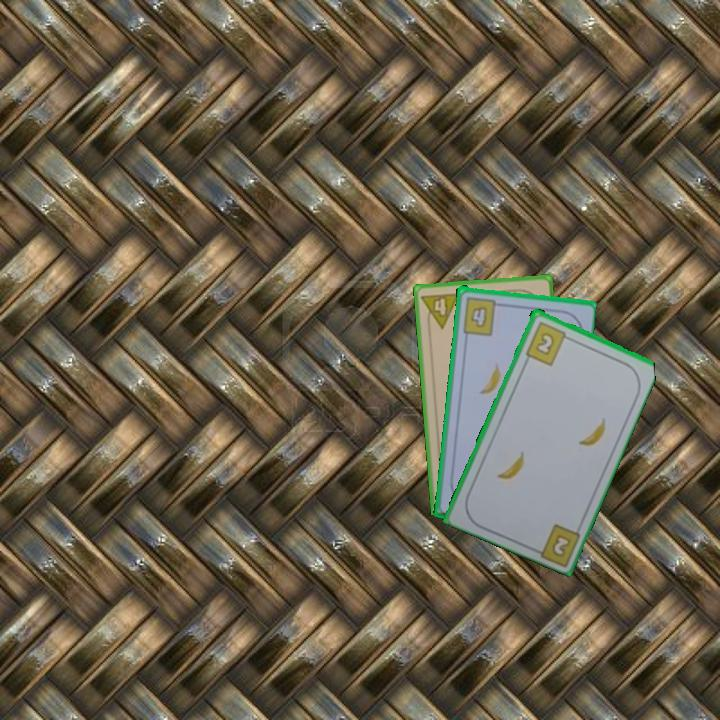2b: (522, 318, 574, 368), (550, 533, 571, 557)
4b: (459, 293, 505, 338)
4p: (418, 289, 462, 332)
